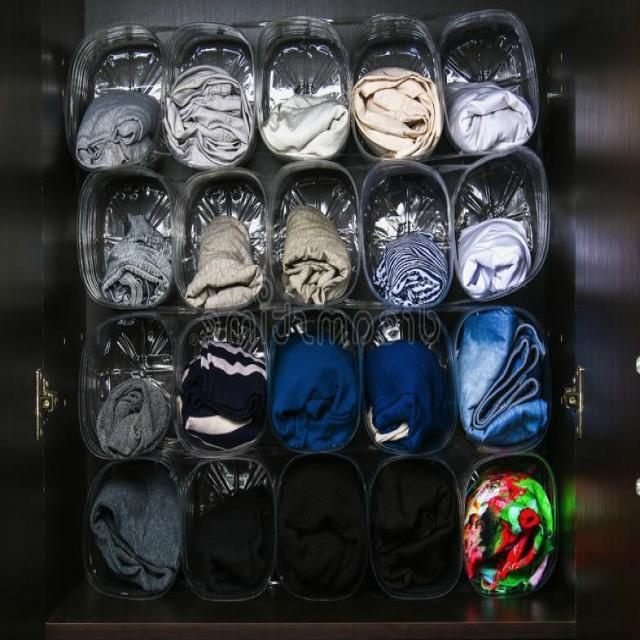clothes: (105, 62, 522, 607)
